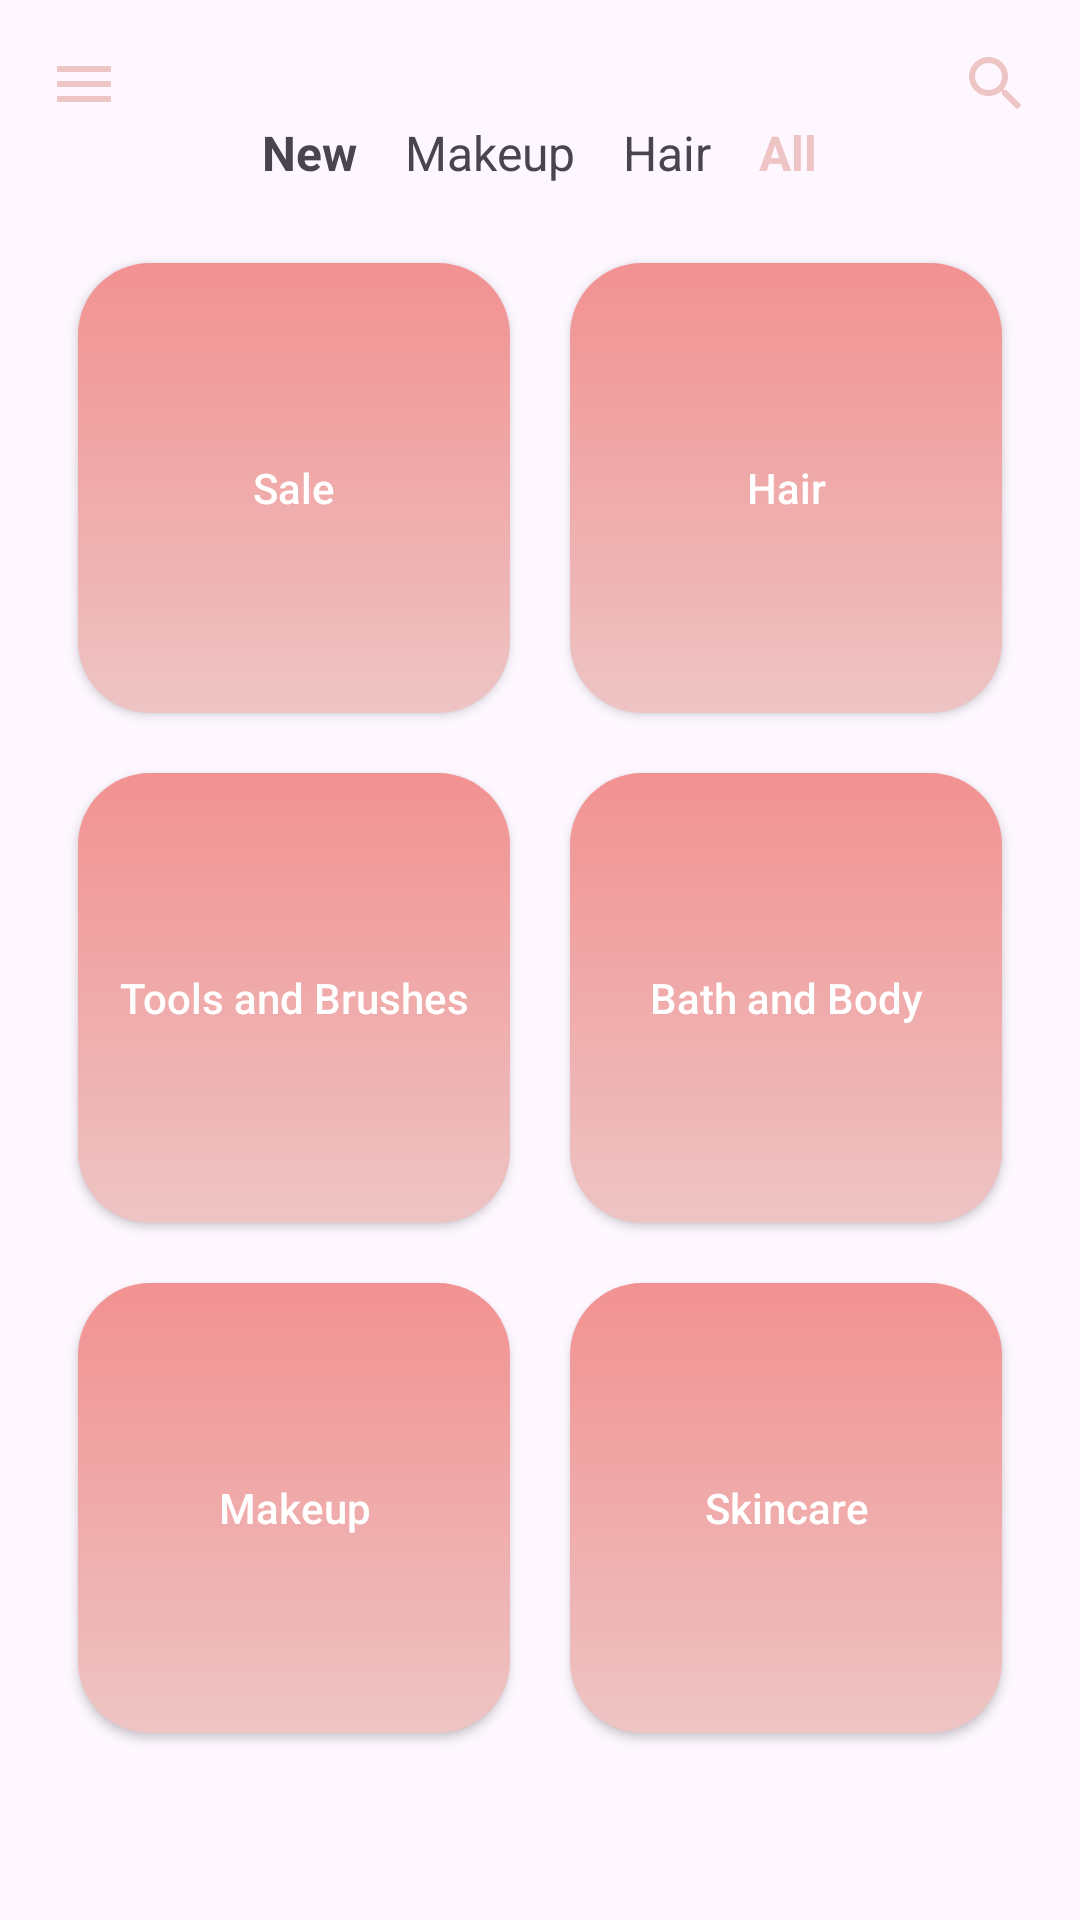

Icons on this 1080px x 1920px Android screen, each with its box as (x1, y1, x2, y2):
Menu: (57, 66, 111, 102)
Search: (969, 57, 1021, 109)
